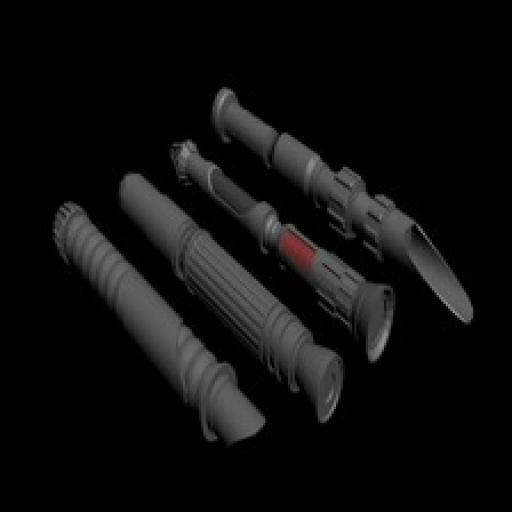lightsaber: (209, 80, 474, 326), (114, 167, 346, 423), (163, 134, 396, 360), (50, 196, 265, 440)
